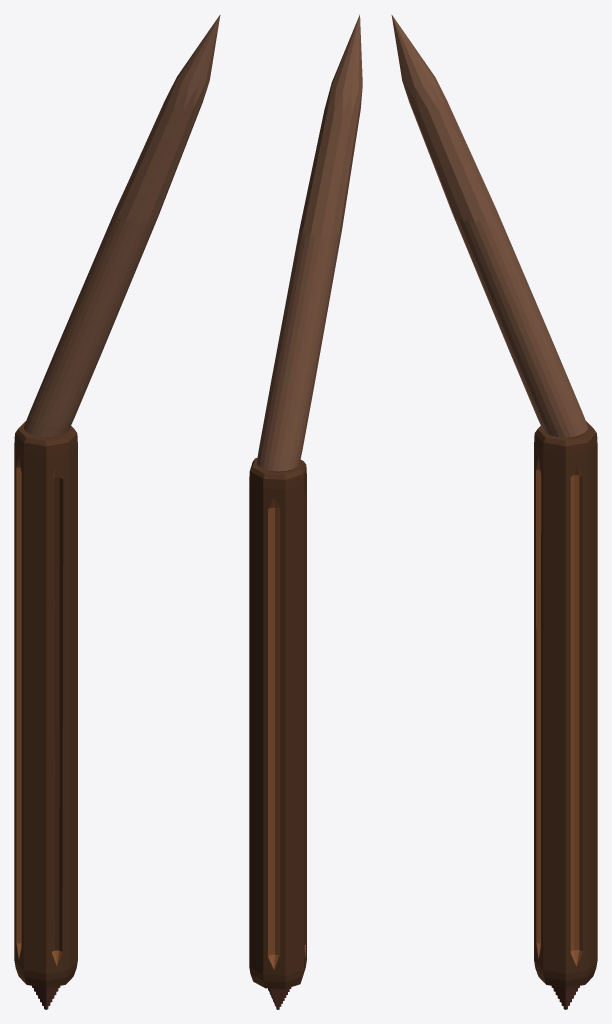
The model's file is Wand 594.glb.
3 renders of one model, left to right at view 1: azimuth 90°, elevation 25°; view 2: azimuth 150°, elevation 25°; view 3: azimuth 270°, elevation 25°, orthographic. The views are drawn at different scales.
Visible parts, largest first — view 1: GeneratedWand; view 2: GeneratedWand; view 3: GeneratedWand.
Boxes of the visible parts, x1=… form: GeneratedWand: x1=14, y1=15, x2=220, y2=1009; GeneratedWand: x1=249, y1=14, x2=362, y2=1009; GeneratedWand: x1=391, y1=15, x2=597, y2=1009.
Size of the model in its own units: 0.0289 by 0.5006 by 0.0939.
